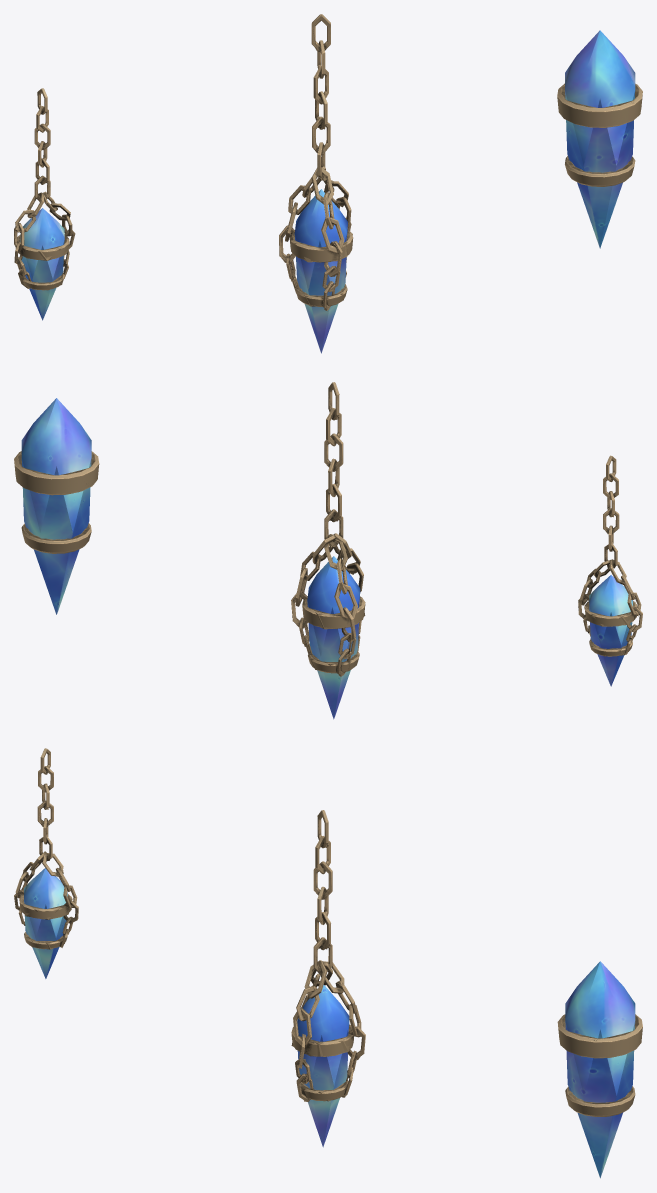
The model's file is Crystal_Light_Chain_1A1.fbx.
3 renders of one model, top to bottom at view 1: azimuth 30°, elevation 25°; view 2: azimuth 150°, elevation 25°; view 3: azimuth 330°, elevation 25°, orthographic.
Parts seen in each view (by area): view 1: Crystal_Light_1A3, Crystal_Light_Chain_1A2, Crystal_Light_1A2, Crystal_Light_Chain_1A1, Crystal_Light_Rim_1A3, Crystal_Light_1A1, Crystal_Light_Chain_1A2.001, Crystal_Light_Chain_1A1.001; view 2: Crystal_Light_1A3, Crystal_Light_Chain_1A2, Crystal_Light_1A2, Crystal_Light_Chain_1A1, Crystal_Light_Rim_1A3, Crystal_Light_1A1, Crystal_Light_Chain_1A2.001, Crystal_Light_Chain_1A1.001; view 3: Crystal_Light_1A3, Crystal_Light_Chain_1A2, Crystal_Light_1A2, Crystal_Light_Chain_1A1, Crystal_Light_Rim_1A3, Crystal_Light_1A1, Crystal_Light_Chain_1A2.001, Crystal_Light_Chain_1A1.001.
Boxes of the visible parts, x1,y1,x2,y2 form: Crystal_Light_1A3: (565, 30, 635, 248); Crystal_Light_Chain_1A2: (279, 14, 353, 309); Crystal_Light_1A2: (294, 189, 347, 353); Crystal_Light_Chain_1A1: (14, 88, 75, 290); Crystal_Light_Rim_1A3: (557, 83, 642, 186); Crystal_Light_1A1: (20, 208, 64, 320); Crystal_Light_Chain_1A2.001: (279, 14, 352, 310); Crystal_Light_Chain_1A1.001: (14, 88, 72, 290); Crystal_Light_1A3: (21, 398, 91, 614); Crystal_Light_Chain_1A2: (291, 382, 365, 675); Crystal_Light_1A2: (307, 556, 360, 719); Crystal_Light_Chain_1A1: (578, 455, 642, 656); Crystal_Light_Rim_1A3: (14, 451, 99, 553); Crystal_Light_1A1: (589, 575, 632, 686); Crystal_Light_Chain_1A2.001: (291, 382, 365, 676); Crystal_Light_Chain_1A1.001: (578, 456, 642, 656); Crystal_Light_1A3: (565, 961, 635, 1178); Crystal_Light_Chain_1A2: (291, 810, 365, 1101); Crystal_Light_1A2: (297, 985, 349, 1147); Crystal_Light_Chain_1A1: (14, 748, 78, 949); Crystal_Light_Rim_1A3: (557, 1014, 642, 1116); Crystal_Light_1A1: (24, 868, 67, 978); Crystal_Light_Chain_1A2.001: (291, 810, 365, 1101); Crystal_Light_Chain_1A1.001: (14, 753, 78, 949).
Bounding box in the file's own units: 896 × 465 × 108.
